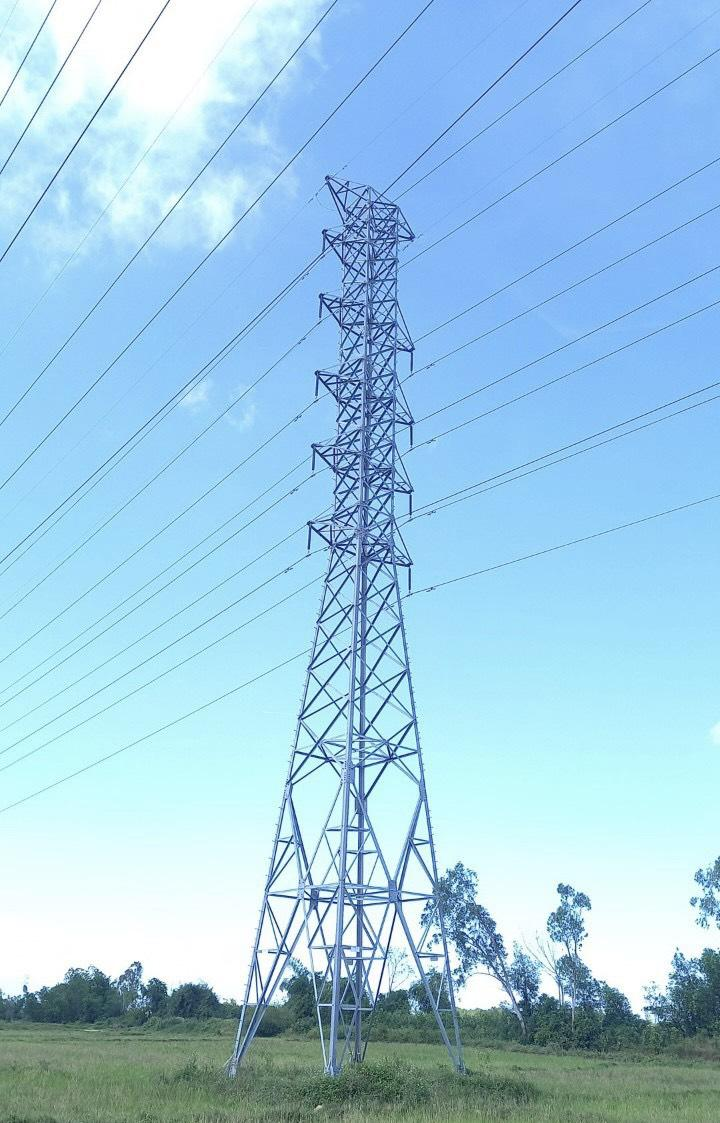power_tower: (272, 173, 455, 1072)
